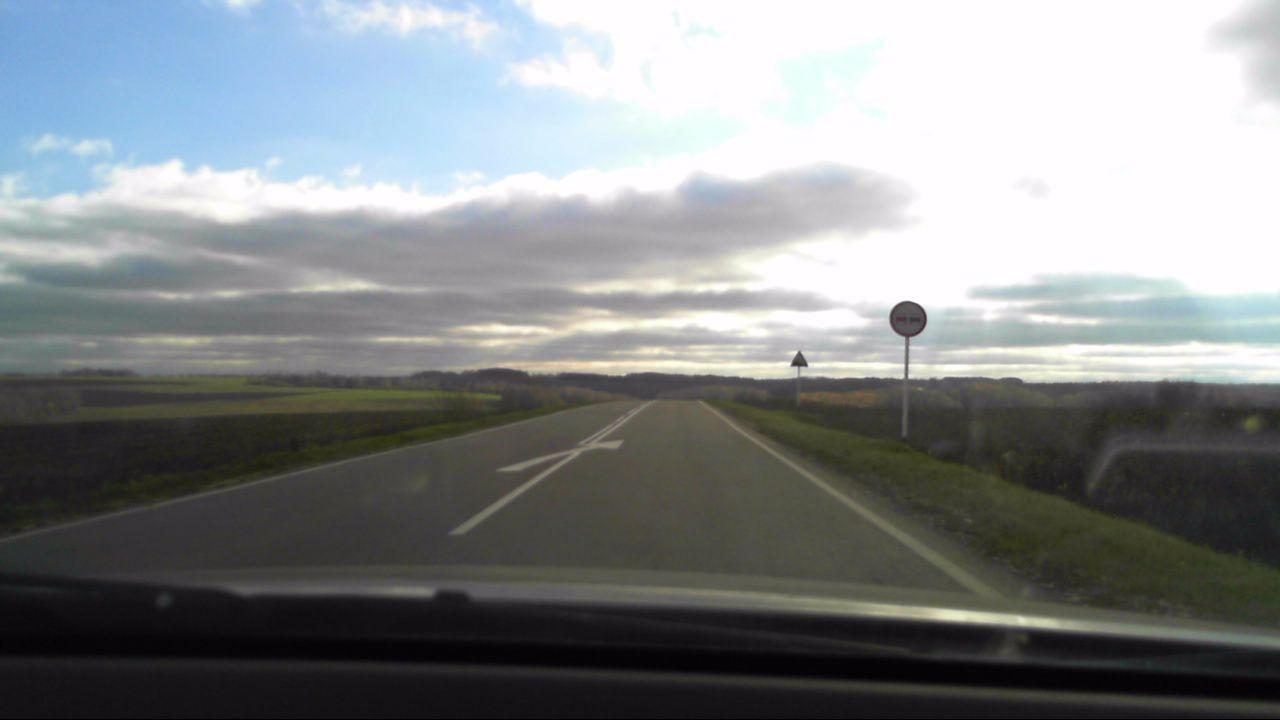1_13: (788, 351, 808, 368)
3_20: (887, 298, 929, 335)
